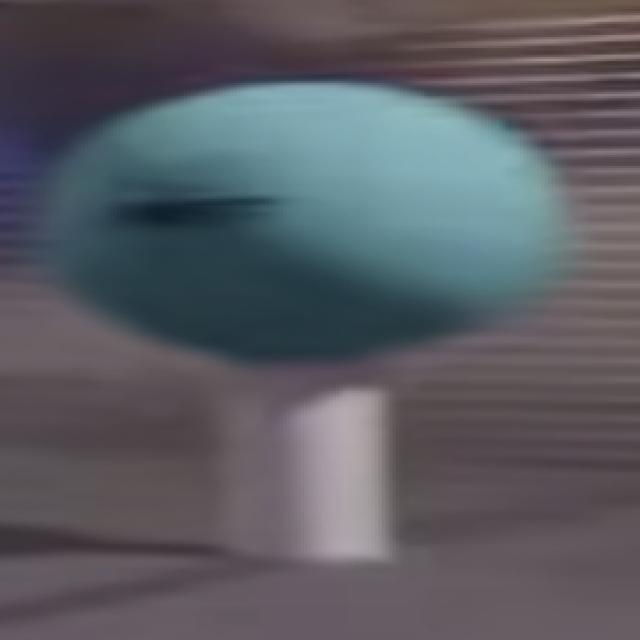Algae: (36, 74, 576, 367)
Coral: (213, 356, 395, 564)
